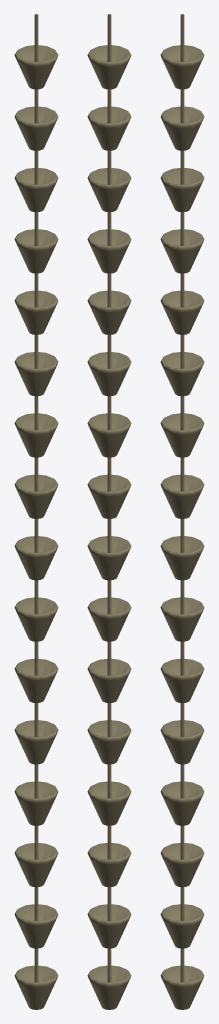
Rendered from rain_chain.glb.
The picture shows the model from 3 angles, left to right: view 1: azimuth 90°, elevation 25°; view 2: azimuth 150°, elevation 25°; view 3: azimuth 270°, elevation 25°; orthographic projection.
Visible parts, largest first — view 1: rain_chain; view 2: rain_chain; view 3: rain_chain.
Part boxes in pixels (<box>): rain_chain: <box>14,14,58,1009</box>; rain_chain: <box>87,14,131,1009</box>; rain_chain: <box>160,14,204,1009</box>.
Size of the model in its own units: 0.078 by 1.94 by 0.078.
